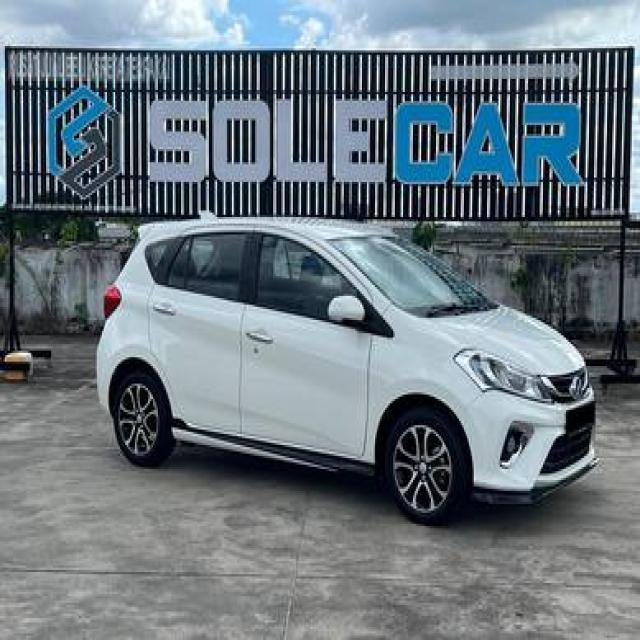PeroduaMyvi: (94, 210, 599, 526)
